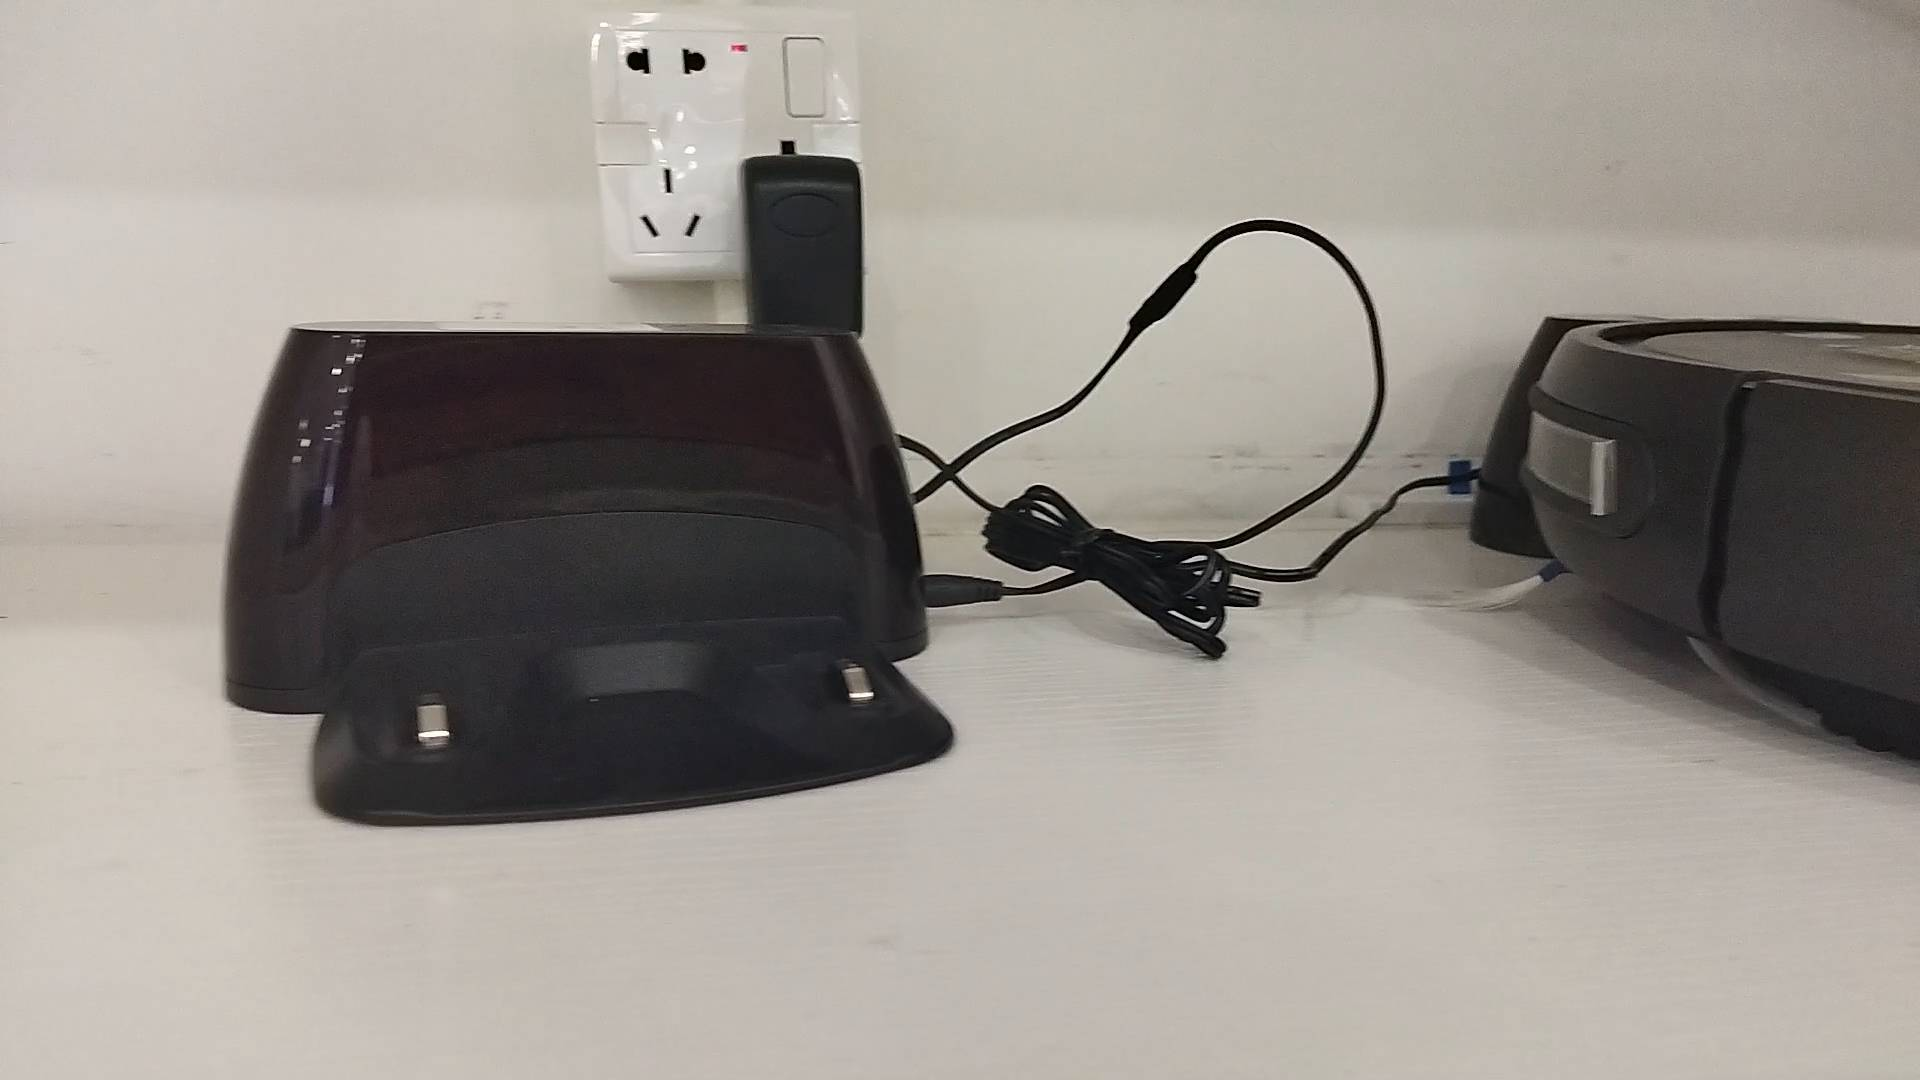recharge seat: (223, 322, 957, 831)
